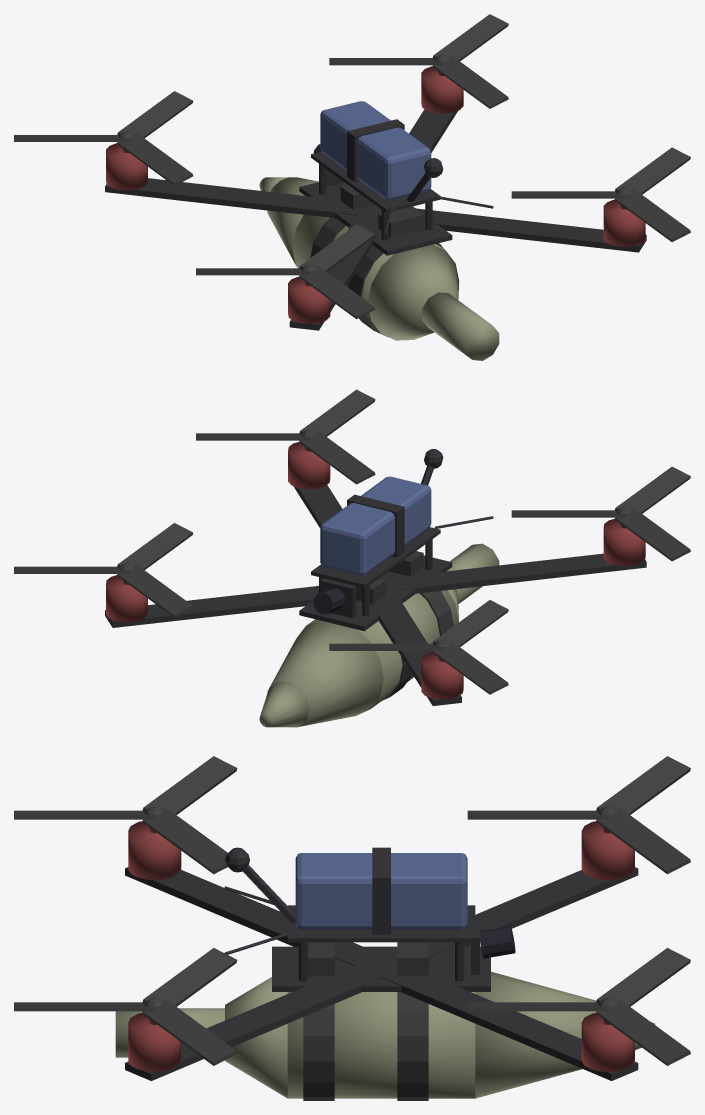
Rendered from fpv_drone.glb.
The picture shows the model from 3 angles, top to bottom: view 1: azimuth 30°, elevation 25°; view 2: azimuth 150°, elevation 25°; view 3: azimuth 270°, elevation 25°; orthographic projection. The views are drawn at different scales.
Visible parts, largest first — view 1: Frame, Warhead, Battery, Motors, Prop2, Prop3, Prop0, Prop1, Tape; view 2: Frame, Warhead, Battery, Motors, Prop1, Prop3, Prop2, Prop0, Tape, Camera; view 3: Frame, Warhead, Battery, Motors, Tape, Prop1, Prop0, Prop2, Prop3, Camera.
Part boxes in pixels (x1,y1,x2,y2): Frame: [105, 109, 646, 330]; Warhead: [259, 177, 499, 360]; Battery: [320, 101, 431, 200]; Motors: [106, 66, 645, 323]; Prop2: [511, 147, 690, 241]; Prop3: [196, 224, 375, 319]; Prop0: [329, 14, 508, 108]; Prop1: [14, 91, 193, 185]; Tape: [310, 184, 444, 337]; Frame: [105, 449, 646, 705]; Warhead: [259, 543, 499, 727]; Battery: [320, 476, 431, 575]; Motors: [106, 441, 645, 699]; Prop1: [329, 600, 508, 694]; Prop3: [511, 466, 690, 561]; Prop2: [196, 389, 375, 484]; Prop0: [14, 523, 193, 617]; Tape: [356, 551, 453, 700]; Camera: [313, 588, 345, 614]; Frame: [125, 847, 638, 1080]; Warhead: [115, 971, 655, 1098]; Battery: [295, 853, 467, 929]; Motors: [128, 821, 634, 1071]; Tape: [303, 942, 428, 1100]; Prop1: [467, 756, 690, 874]; Prop0: [467, 948, 690, 1065]; Prop2: [14, 948, 237, 1065]; Prop3: [14, 756, 237, 874]; Camera: [480, 926, 515, 958].
Size of the model in its own units: 0.4549 by 0.1735 by 0.4328.
